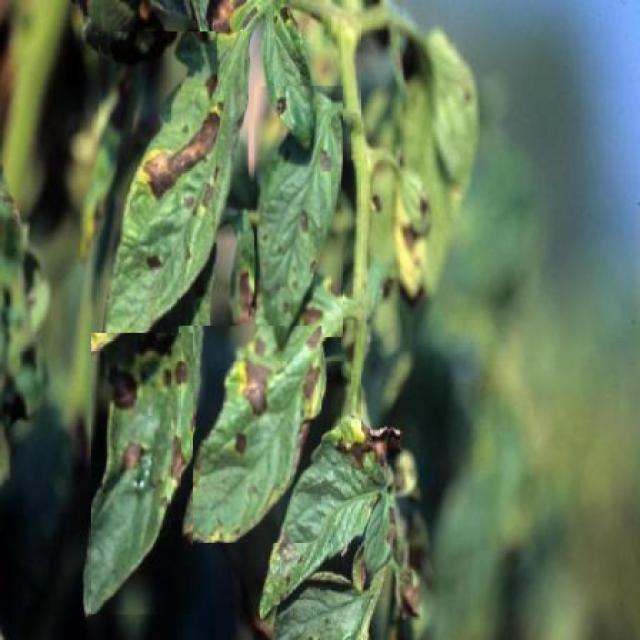Early Blight: (99, 31, 248, 352), (178, 326, 322, 544), (90, 333, 193, 614), (255, 86, 342, 337)
